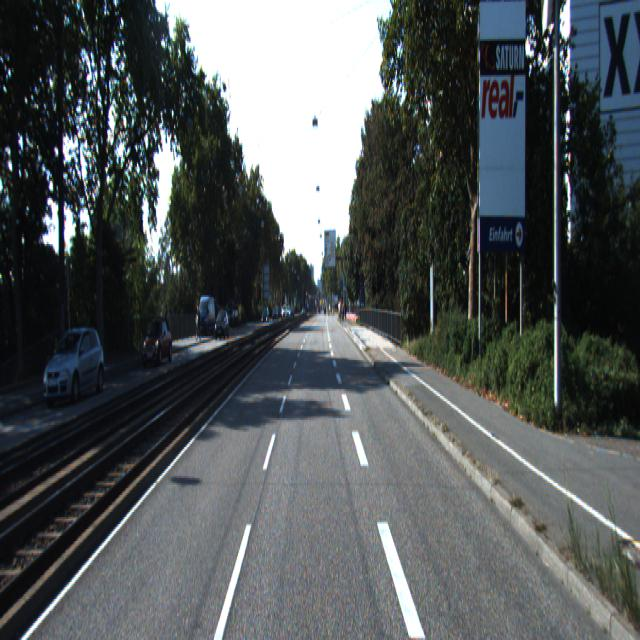Car: (44, 324, 109, 408), (142, 318, 174, 366)
